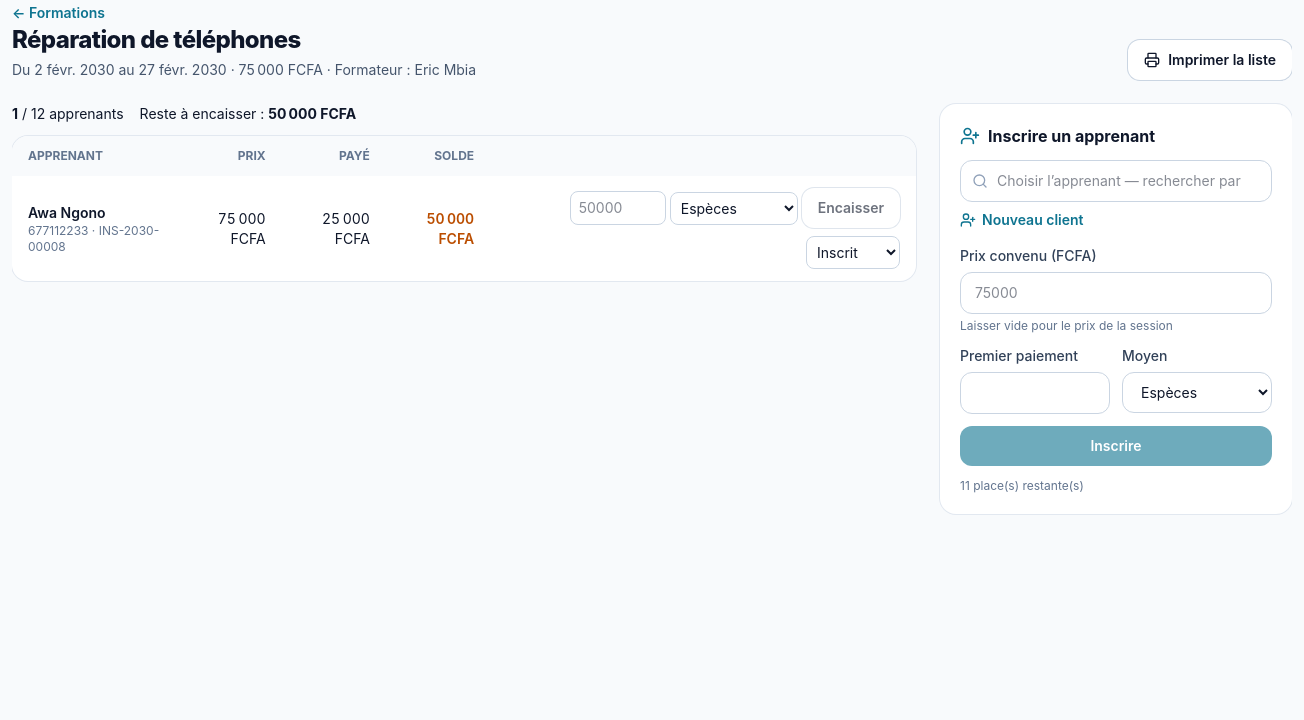
Test: Formations (US-21) › inscrit un nouvel apprenant avec un prix negocie et un premier paiement
The width and height of the screenshot is (1304, 720).
Type "paul" into the search field named "Rechercher un client" at (1116, 181), box 960,160 -> 1272,202
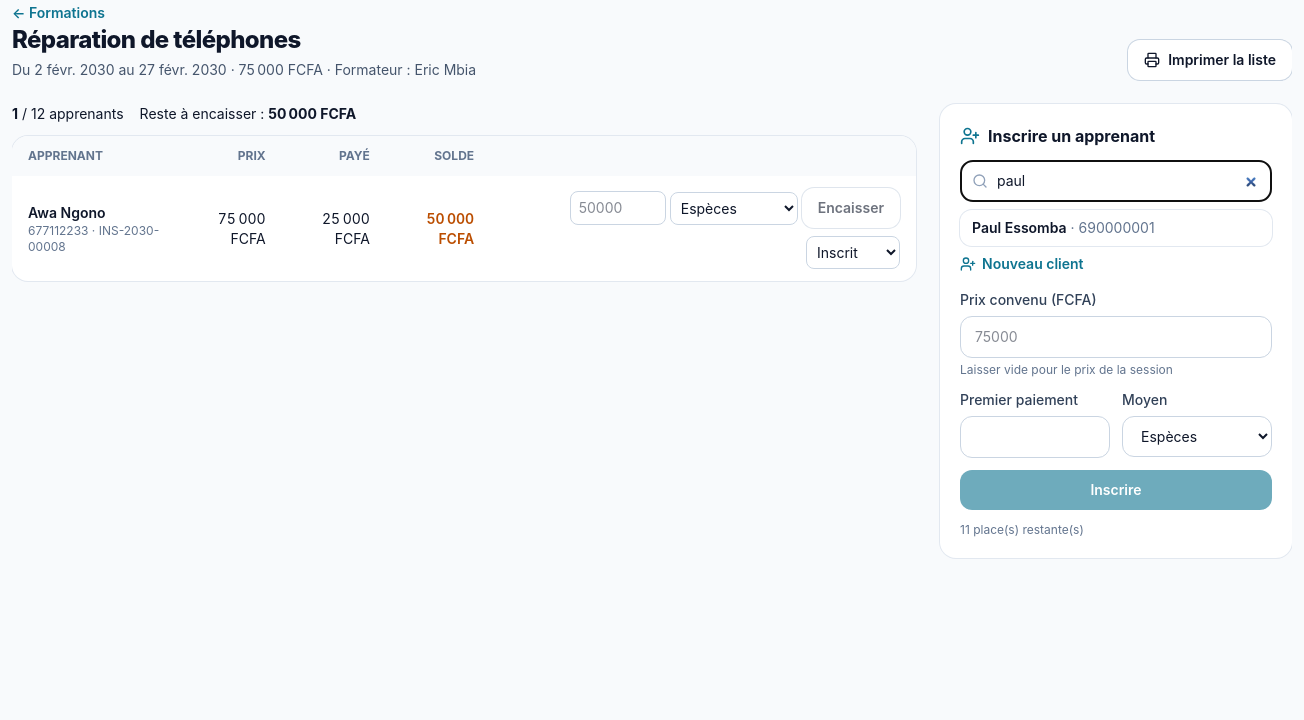
Click the button "Paul Essomba · 690000001" at (1116, 228), box 960,210 -> 1272,246
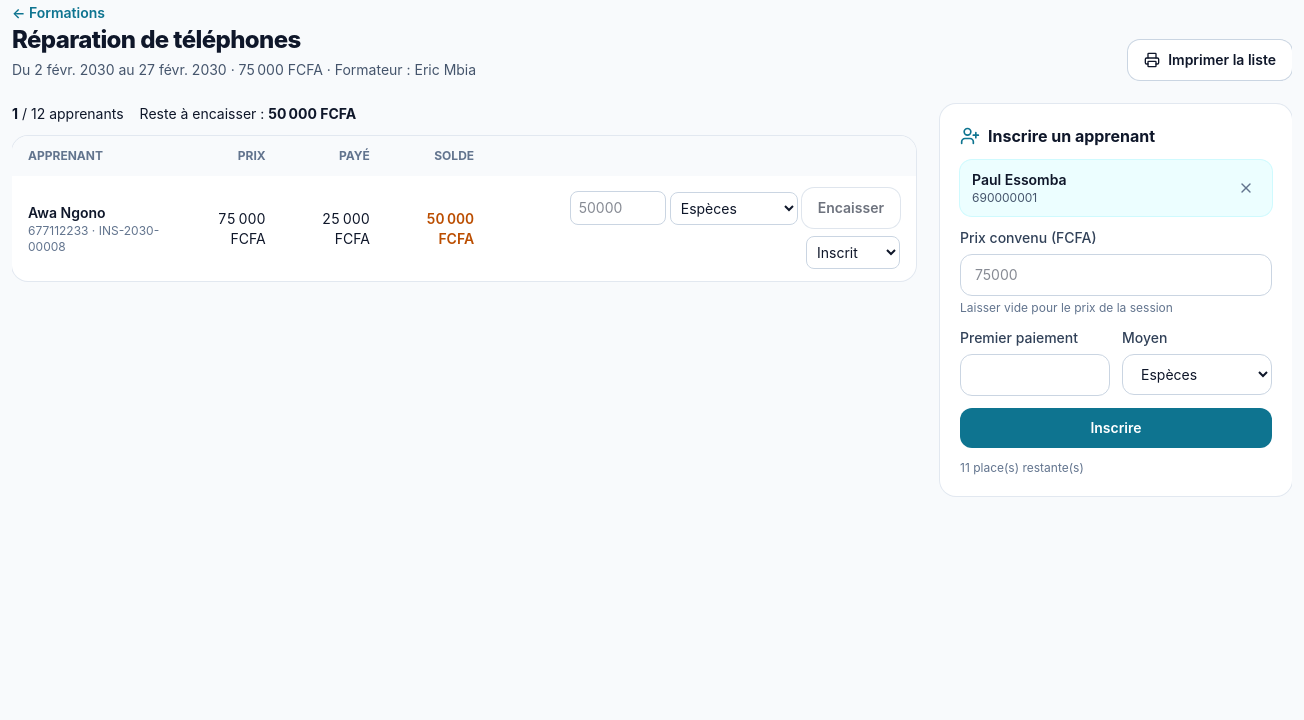
Type "60000" into the number field labelled "Prix convenu (FCFA)" at (1116, 275), box 960,254 -> 1272,296
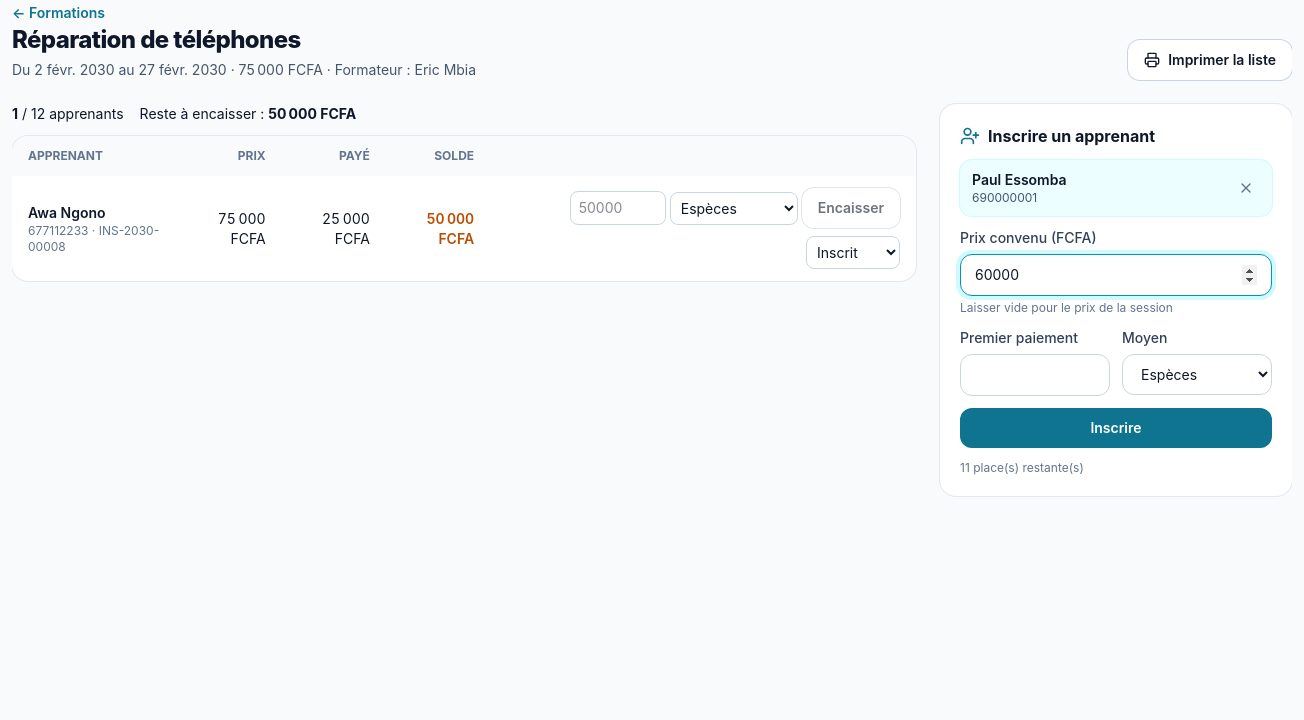
Type "20000" into the number field labelled "Premier paiement" at (1035, 375), box 960,354 -> 1110,396
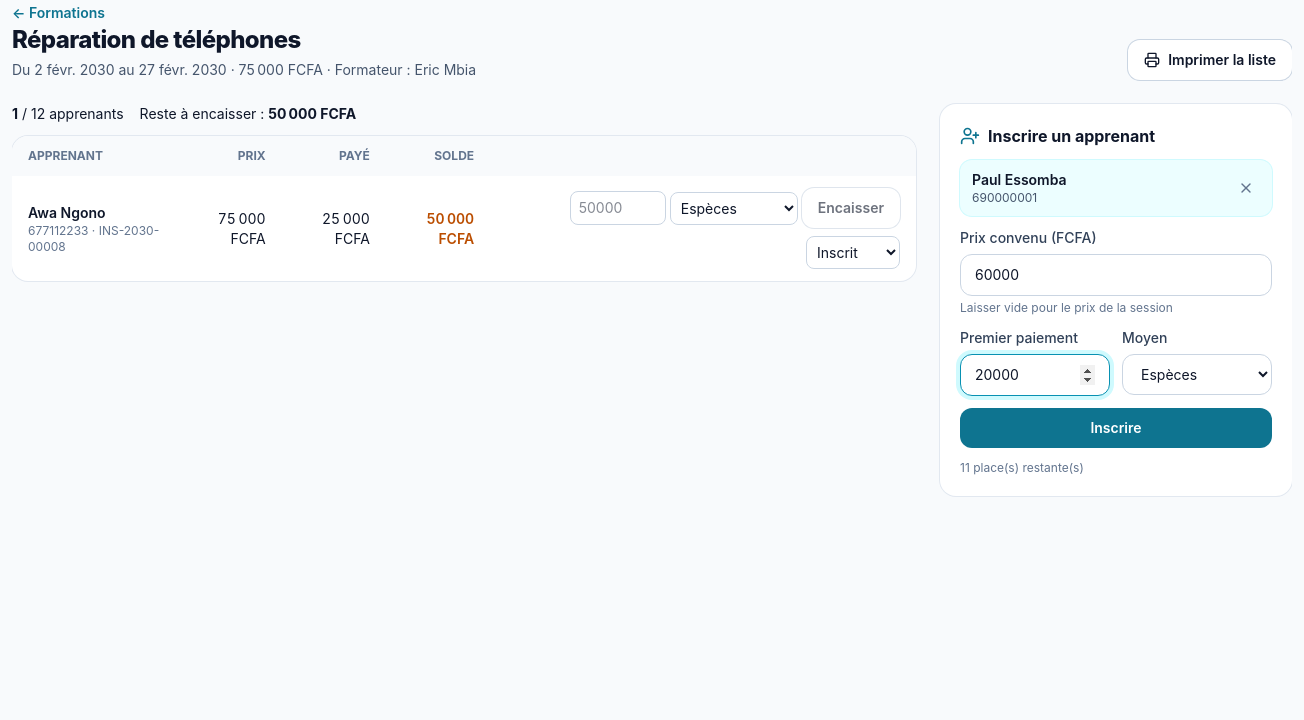
Click the button "Inscrire" at (1116, 428), box 960,408 -> 1272,448
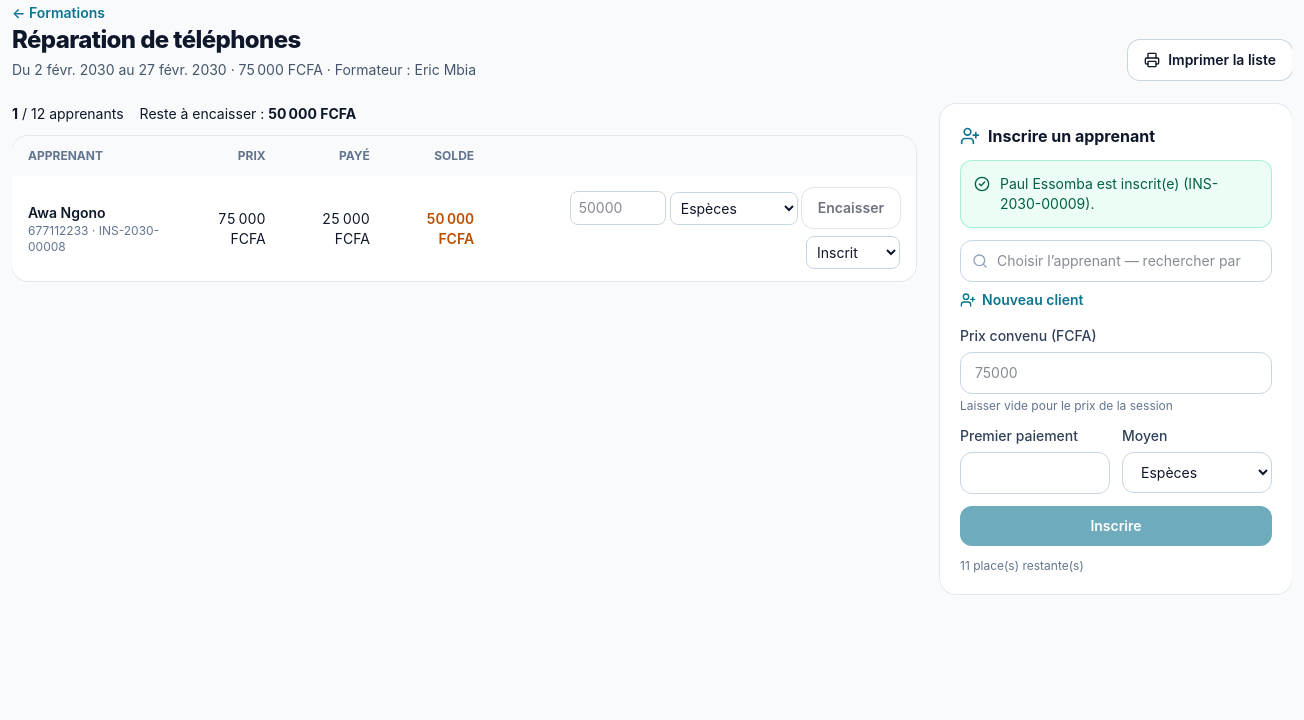
Check: the text "Paul Essomba est inscrit(e) (INS-2030-00009)." is shown, box 1000,175 -> 1218,212
